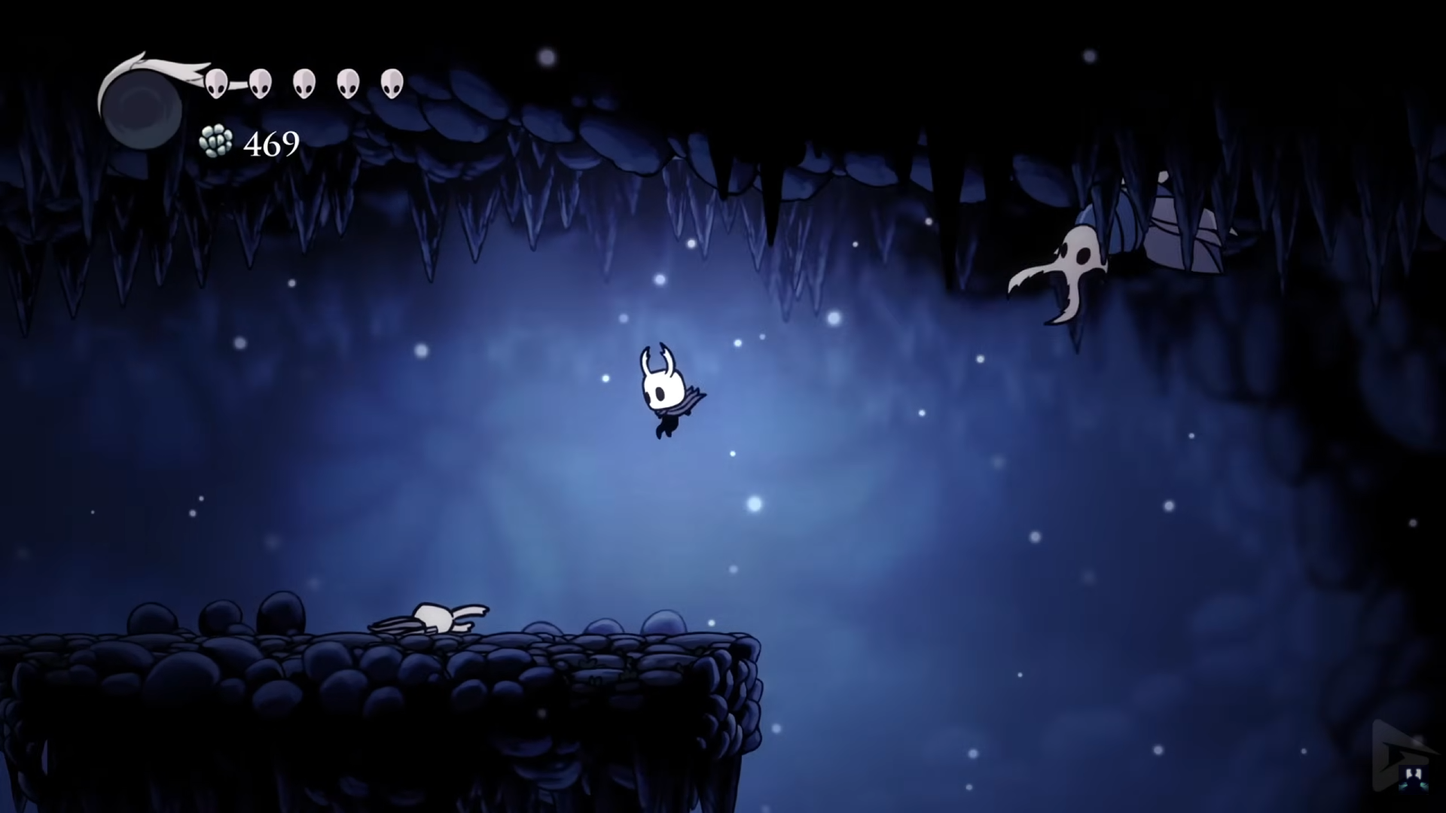HK: (635, 340, 699, 443)
